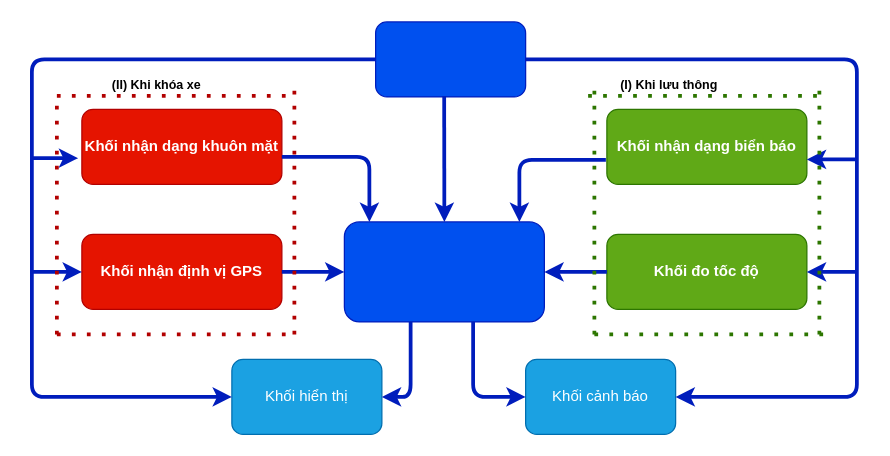
Some shapes in this 890 by 456 pixel diagram are drawn without their labels. The box of each missing label's shape, as (x1, y1, x2, y2) in pixels:
Khối xử lý trung tâm: (343, 221, 544, 322)
Pin: (374, 21, 526, 97)
